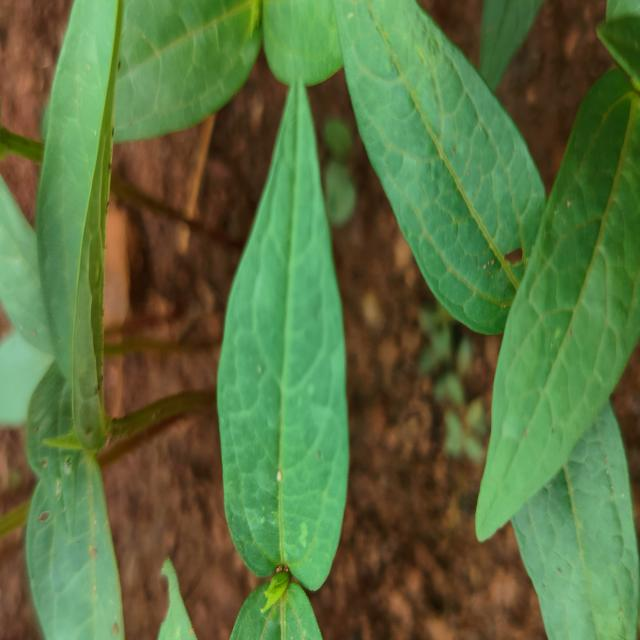Black gram_healthy: (478, 58, 640, 536), (337, 0, 545, 333), (217, 85, 349, 590), (497, 352, 640, 640), (37, 0, 116, 445)
